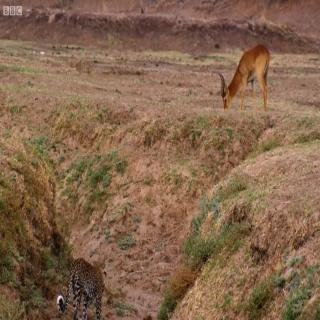Leopard: (46, 246, 111, 320)
